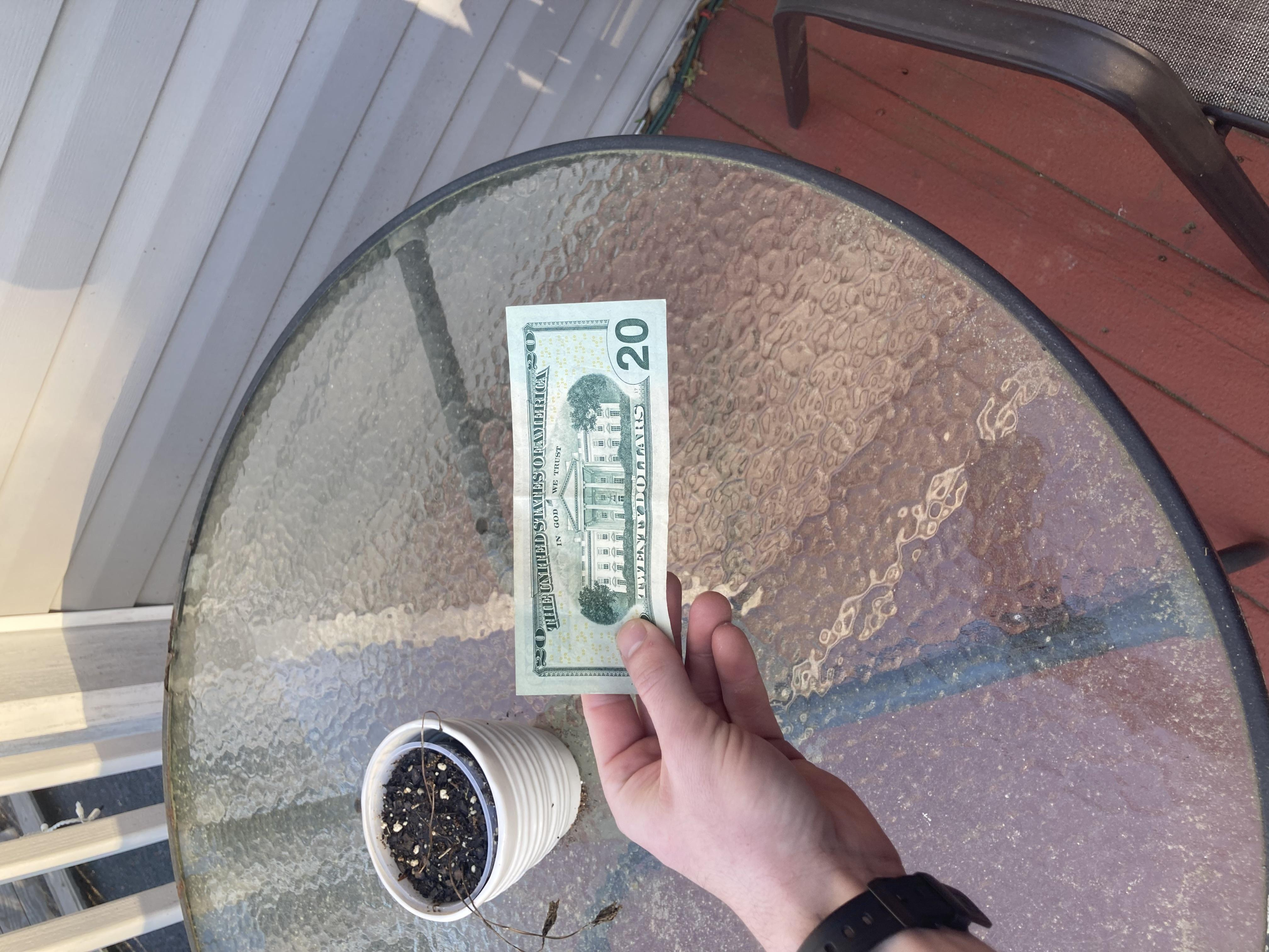twenty-back: (343, 378, 871, 501)
